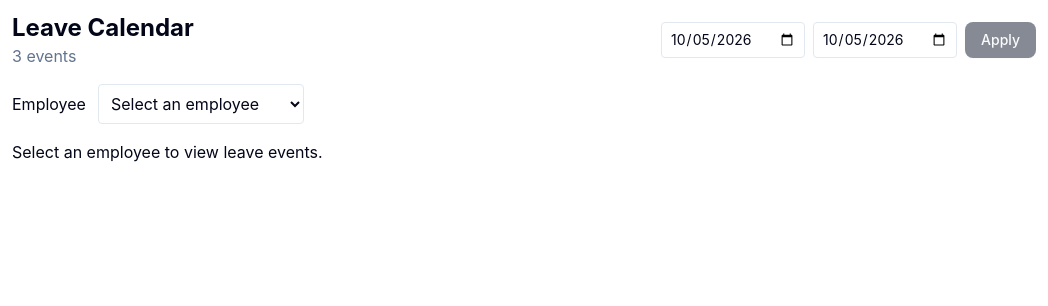
Test: LeaveCalendarPage (data fidelity) › renders events grouped by date with colors from API
Select "EMP1 - Test Employee" in the dropdown with id "leave-calendar-employee" at (201, 104), box [98,84,304,124]
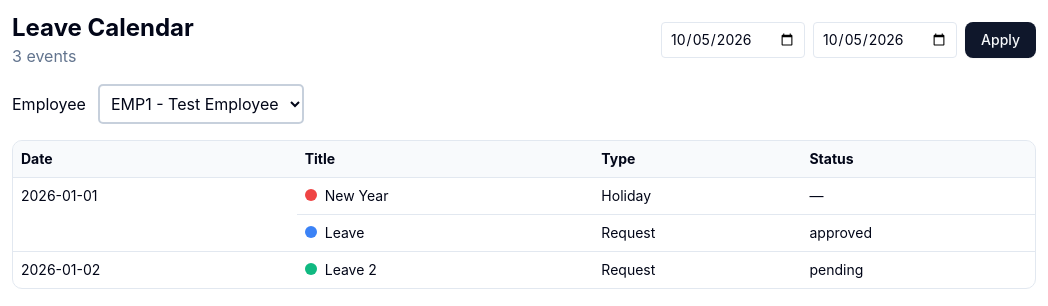
Result: the text "New Year" is shown at [297,178,593,214]
Result: the text "Leave" is shown at [297,214,593,252]
Result: the text "Leave 2" is shown at [297,252,593,288]
